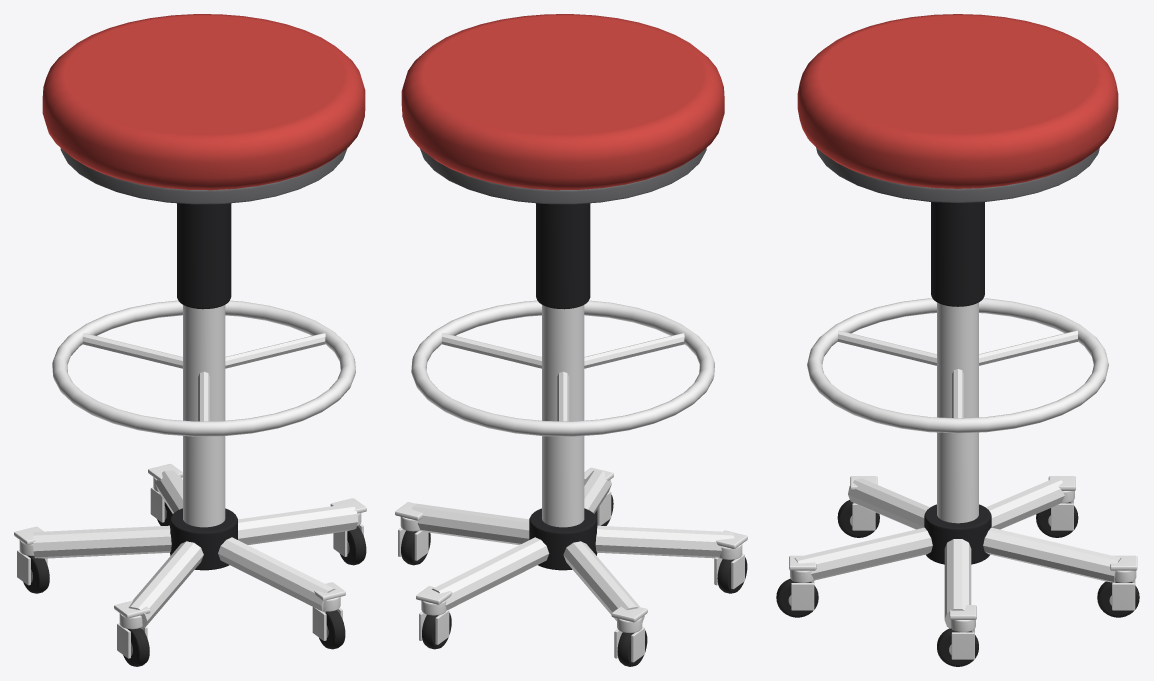
Rendered from seat_stool.glb.
The picture shows the model from 3 angles, left to right: view 1: azimuth 30°, elevation 25°; view 2: azimuth 150°, elevation 25°; view 3: azimuth 270°, elevation 25°; orthographic projection.
Visible parts, largest first — view 1: SM_seat_stool; view 2: SM_seat_stool; view 3: SM_seat_stool.
Boxes of the visible parts, left/top/right/bottom form: SM_seat_stool: left=14, top=14, right=366, bottom=666; SM_seat_stool: left=395, top=14, right=747, bottom=666; SM_seat_stool: left=776, top=14, right=1139, bottom=666.
Size of the model in its own units: 0.4062 by 0.68 by 0.4304.
